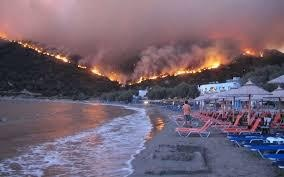fire: (0, 22, 72, 64), (242, 45, 263, 56)
